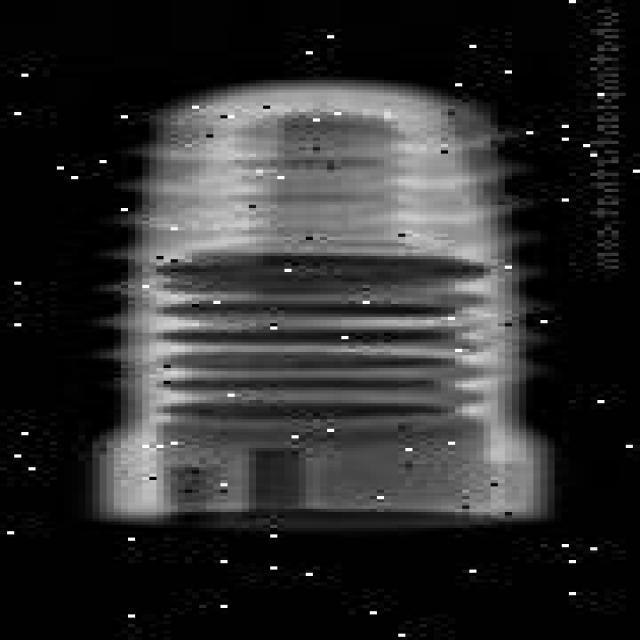Root canal obturation: (85, 70, 562, 531)
